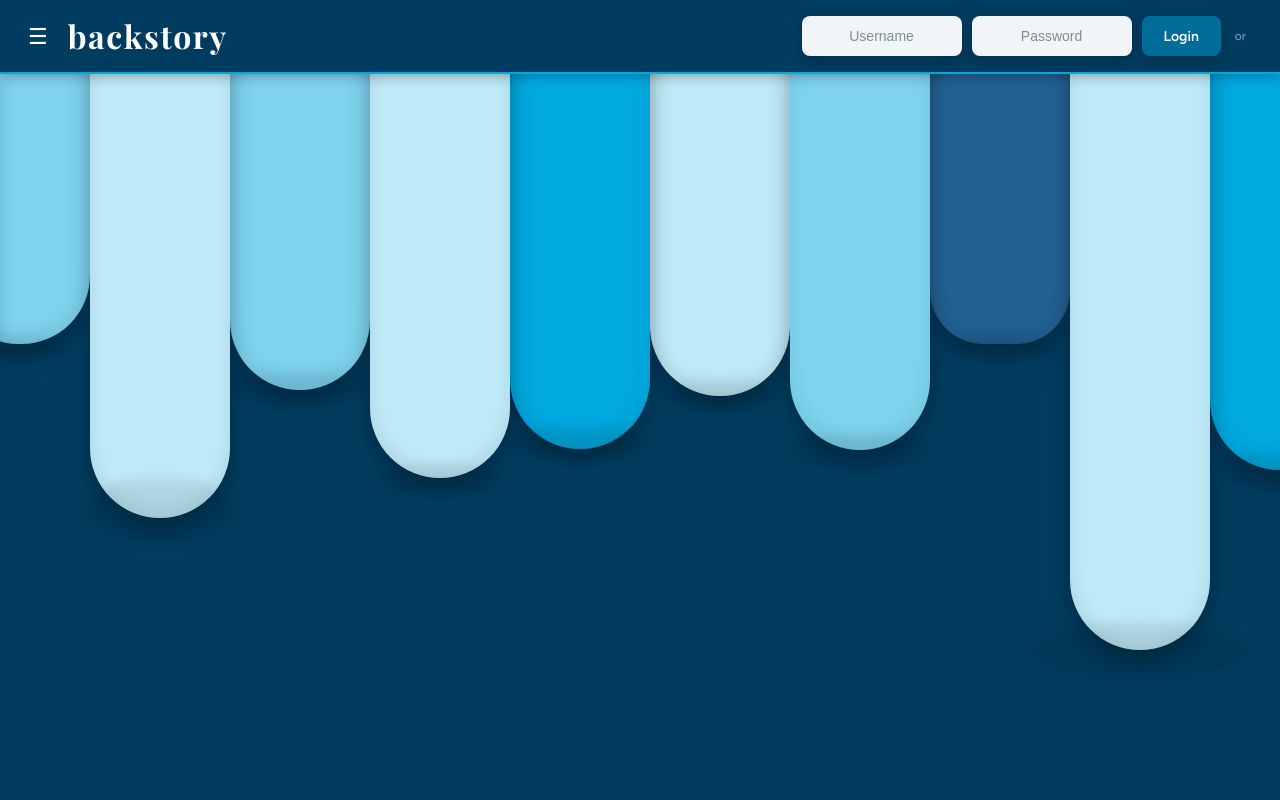
Scenario: Landing — login button › is enabled when both username and password are filled
Type "alice" into the field with placeholder "Username" at (882,36), box [802,16,962,56]
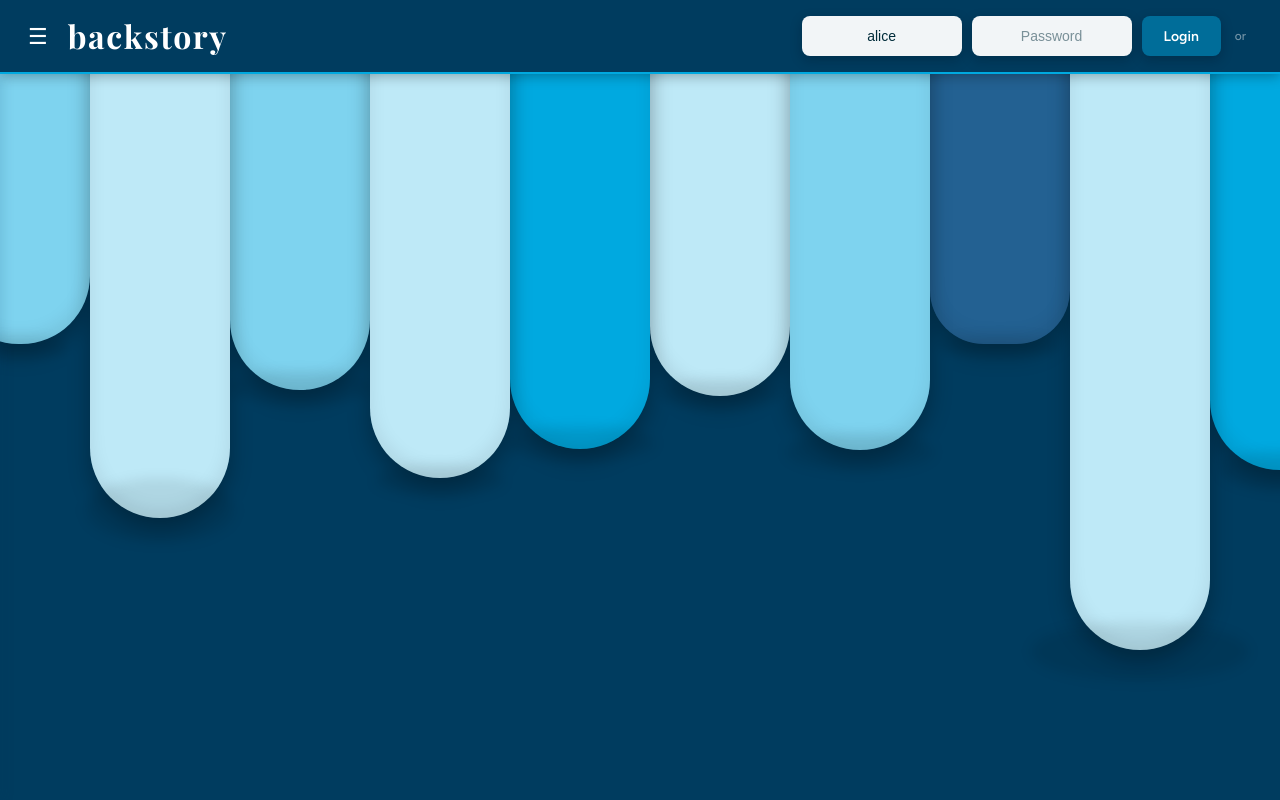
Type "secret" into the password field with placeholder "Password" at (1052,36), box [972,16,1132,56]
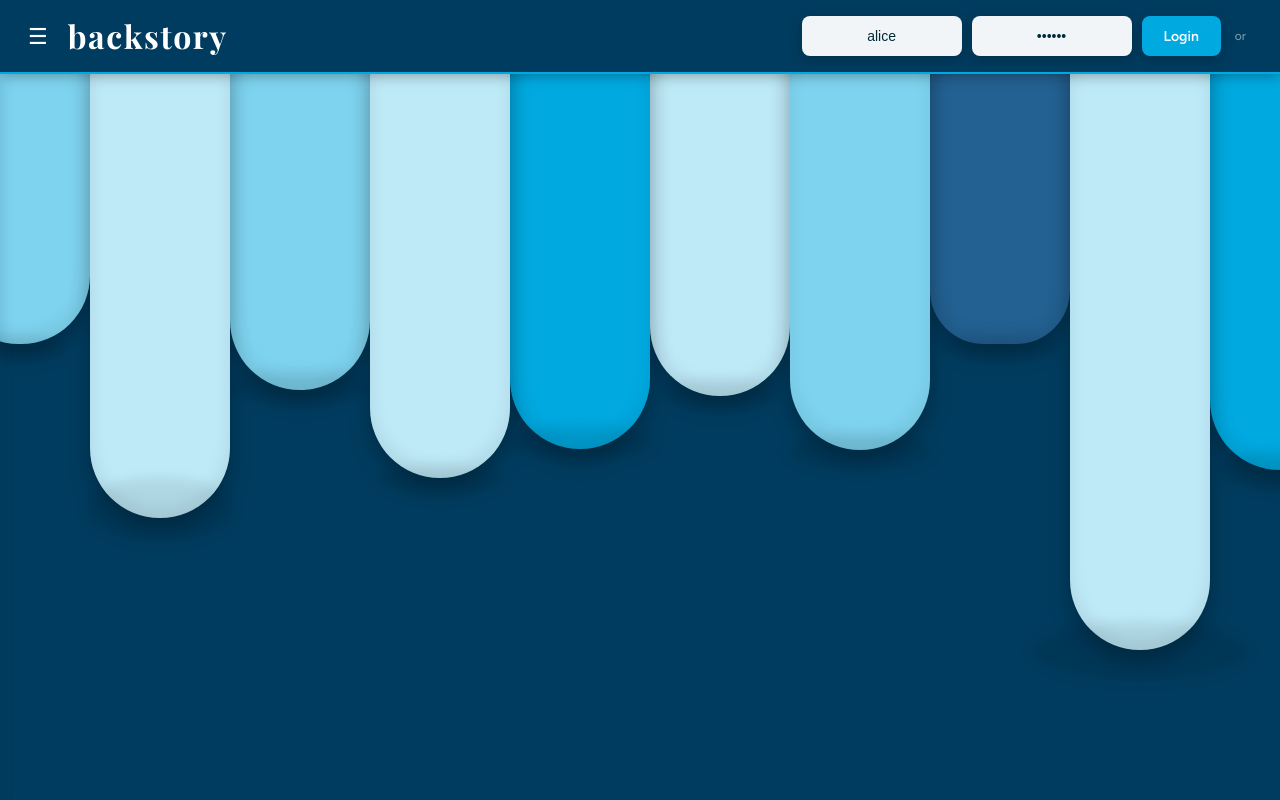
Expected: the button "Login" is enabled, [1142,16,1221,56]
